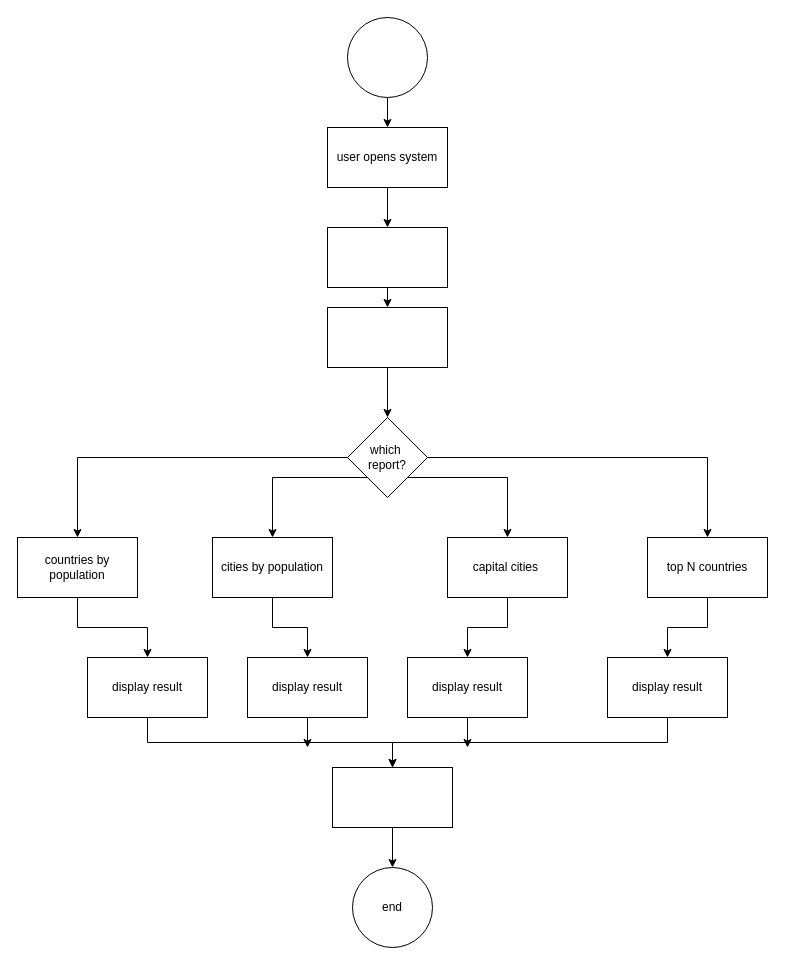
The diagram is 785 pixels wide and 965 high, and some of its shapes have lost their labels. Here are the shapes that lost their labels. From the top down, the centre of each, then its label:
(x=387, y=57): start
(x=387, y=257): system display menu
(x=387, y=337): user select report
(x=392, y=797): system show "Good bye"
